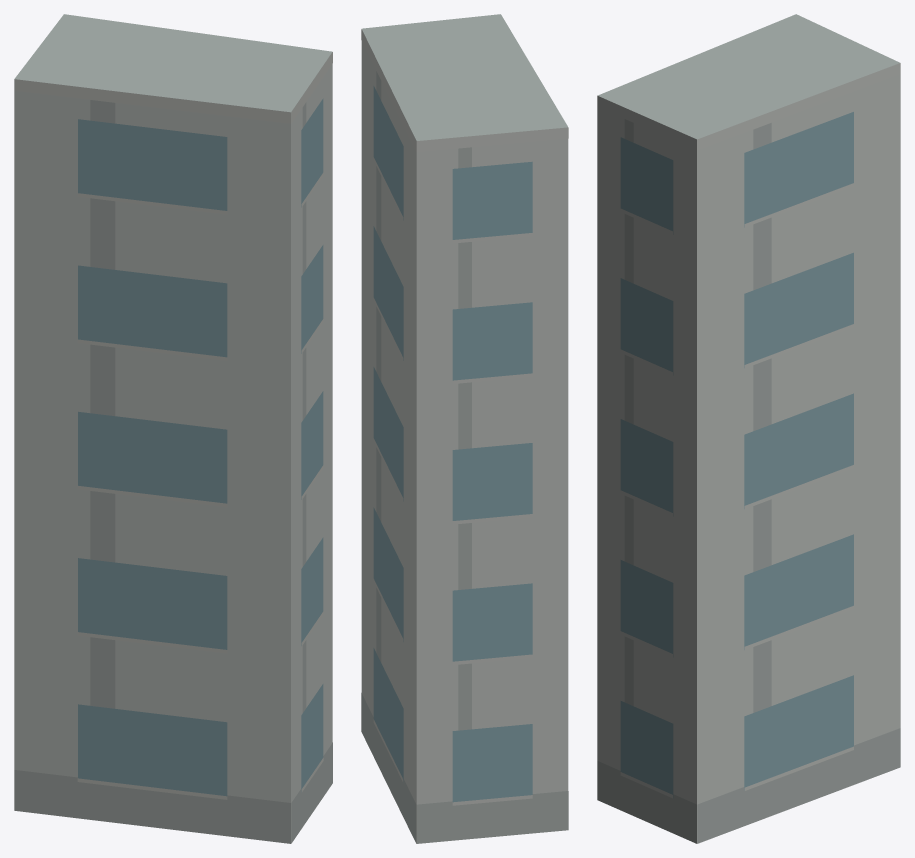
File: survey-upis-32783495.glb
The picture shows the model from 3 angles, left to right: view 1: azimuth 30°, elevation 25°; view 2: azimuth 150°, elevation 25°; view 3: azimuth 270°, elevation 25°; orthographic projection. The views are drawn at different scales.
Visible parts, largest first — view 1: survey-upis-32783495.tmp; view 2: survey-upis-32783495.tmp; view 3: survey-upis-32783495.tmp.
Part boxes in pixels (x1,y1,x2,y2): survey-upis-32783495.tmp: [14, 14, 332, 843]; survey-upis-32783495.tmp: [361, 14, 568, 843]; survey-upis-32783495.tmp: [597, 14, 900, 843].
Size of the model in its own units: 5.83 by 15.25 by 5.96.
